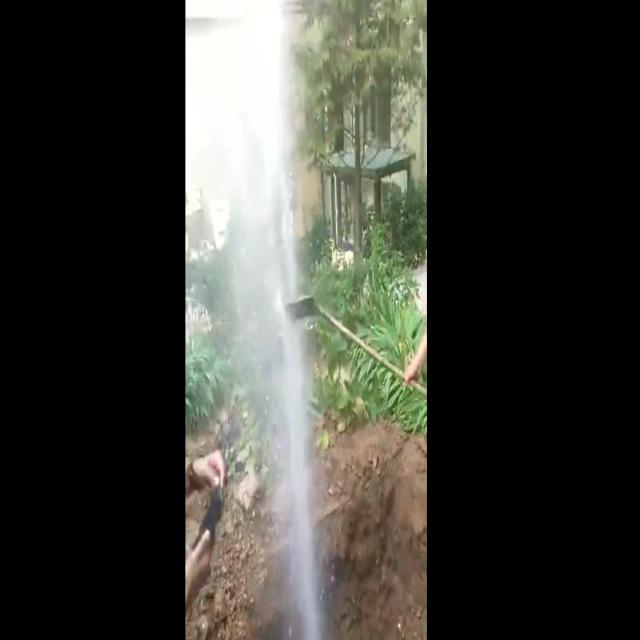leak: (278, 33, 321, 640)
